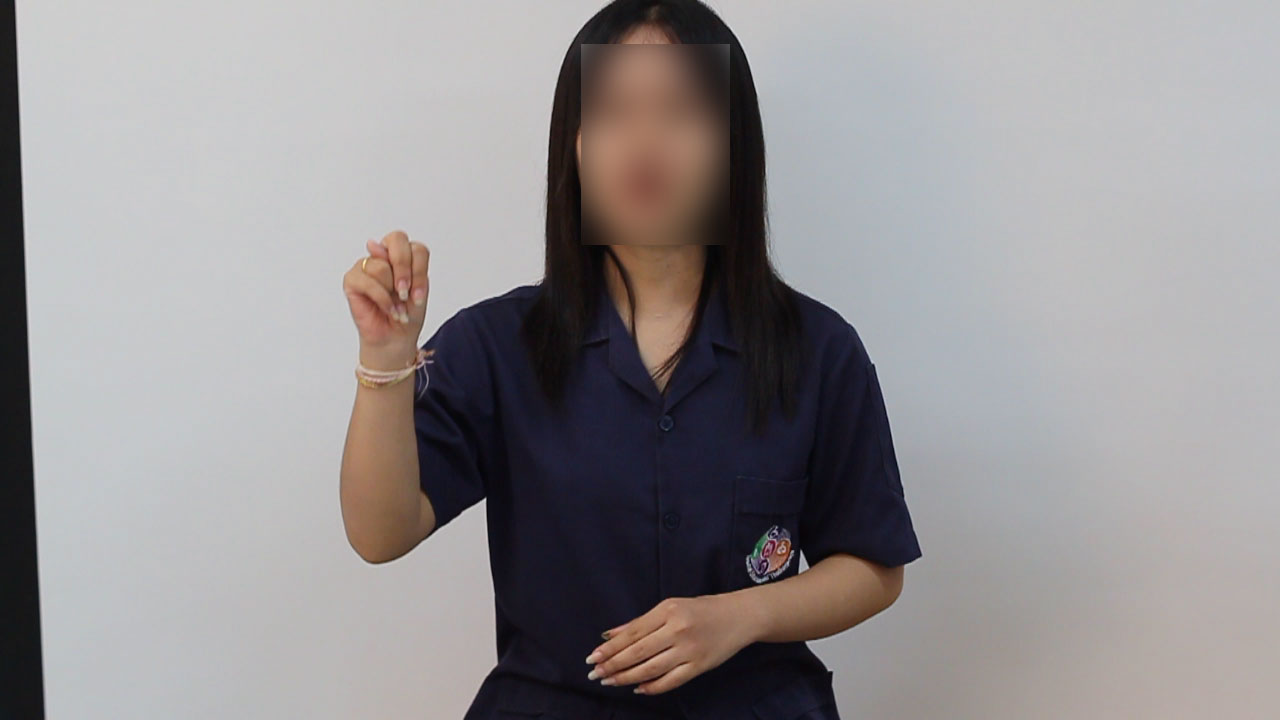nor: (333, 222, 448, 364)
